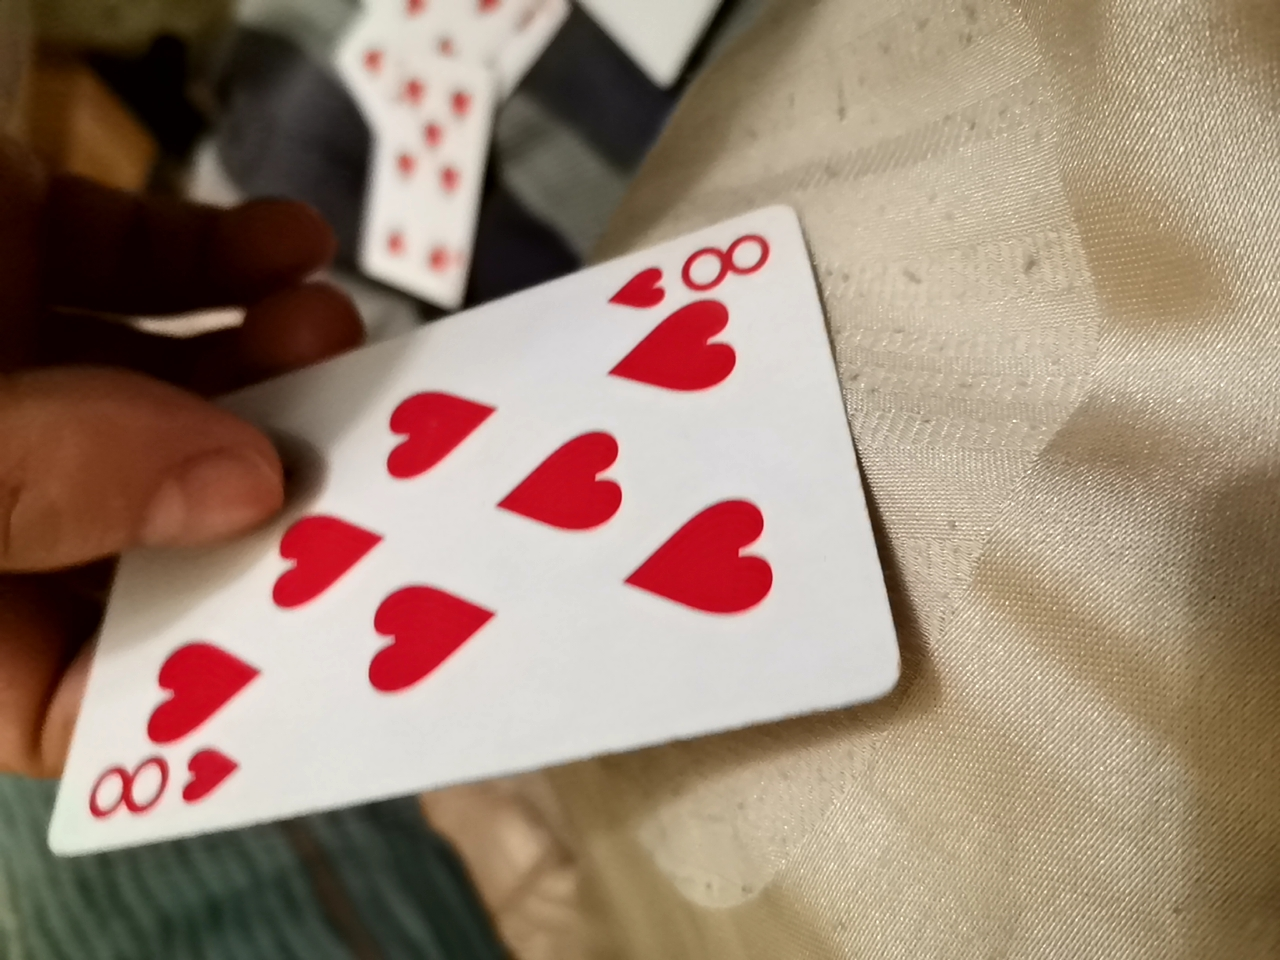hx 8: (36, 196, 902, 860)
